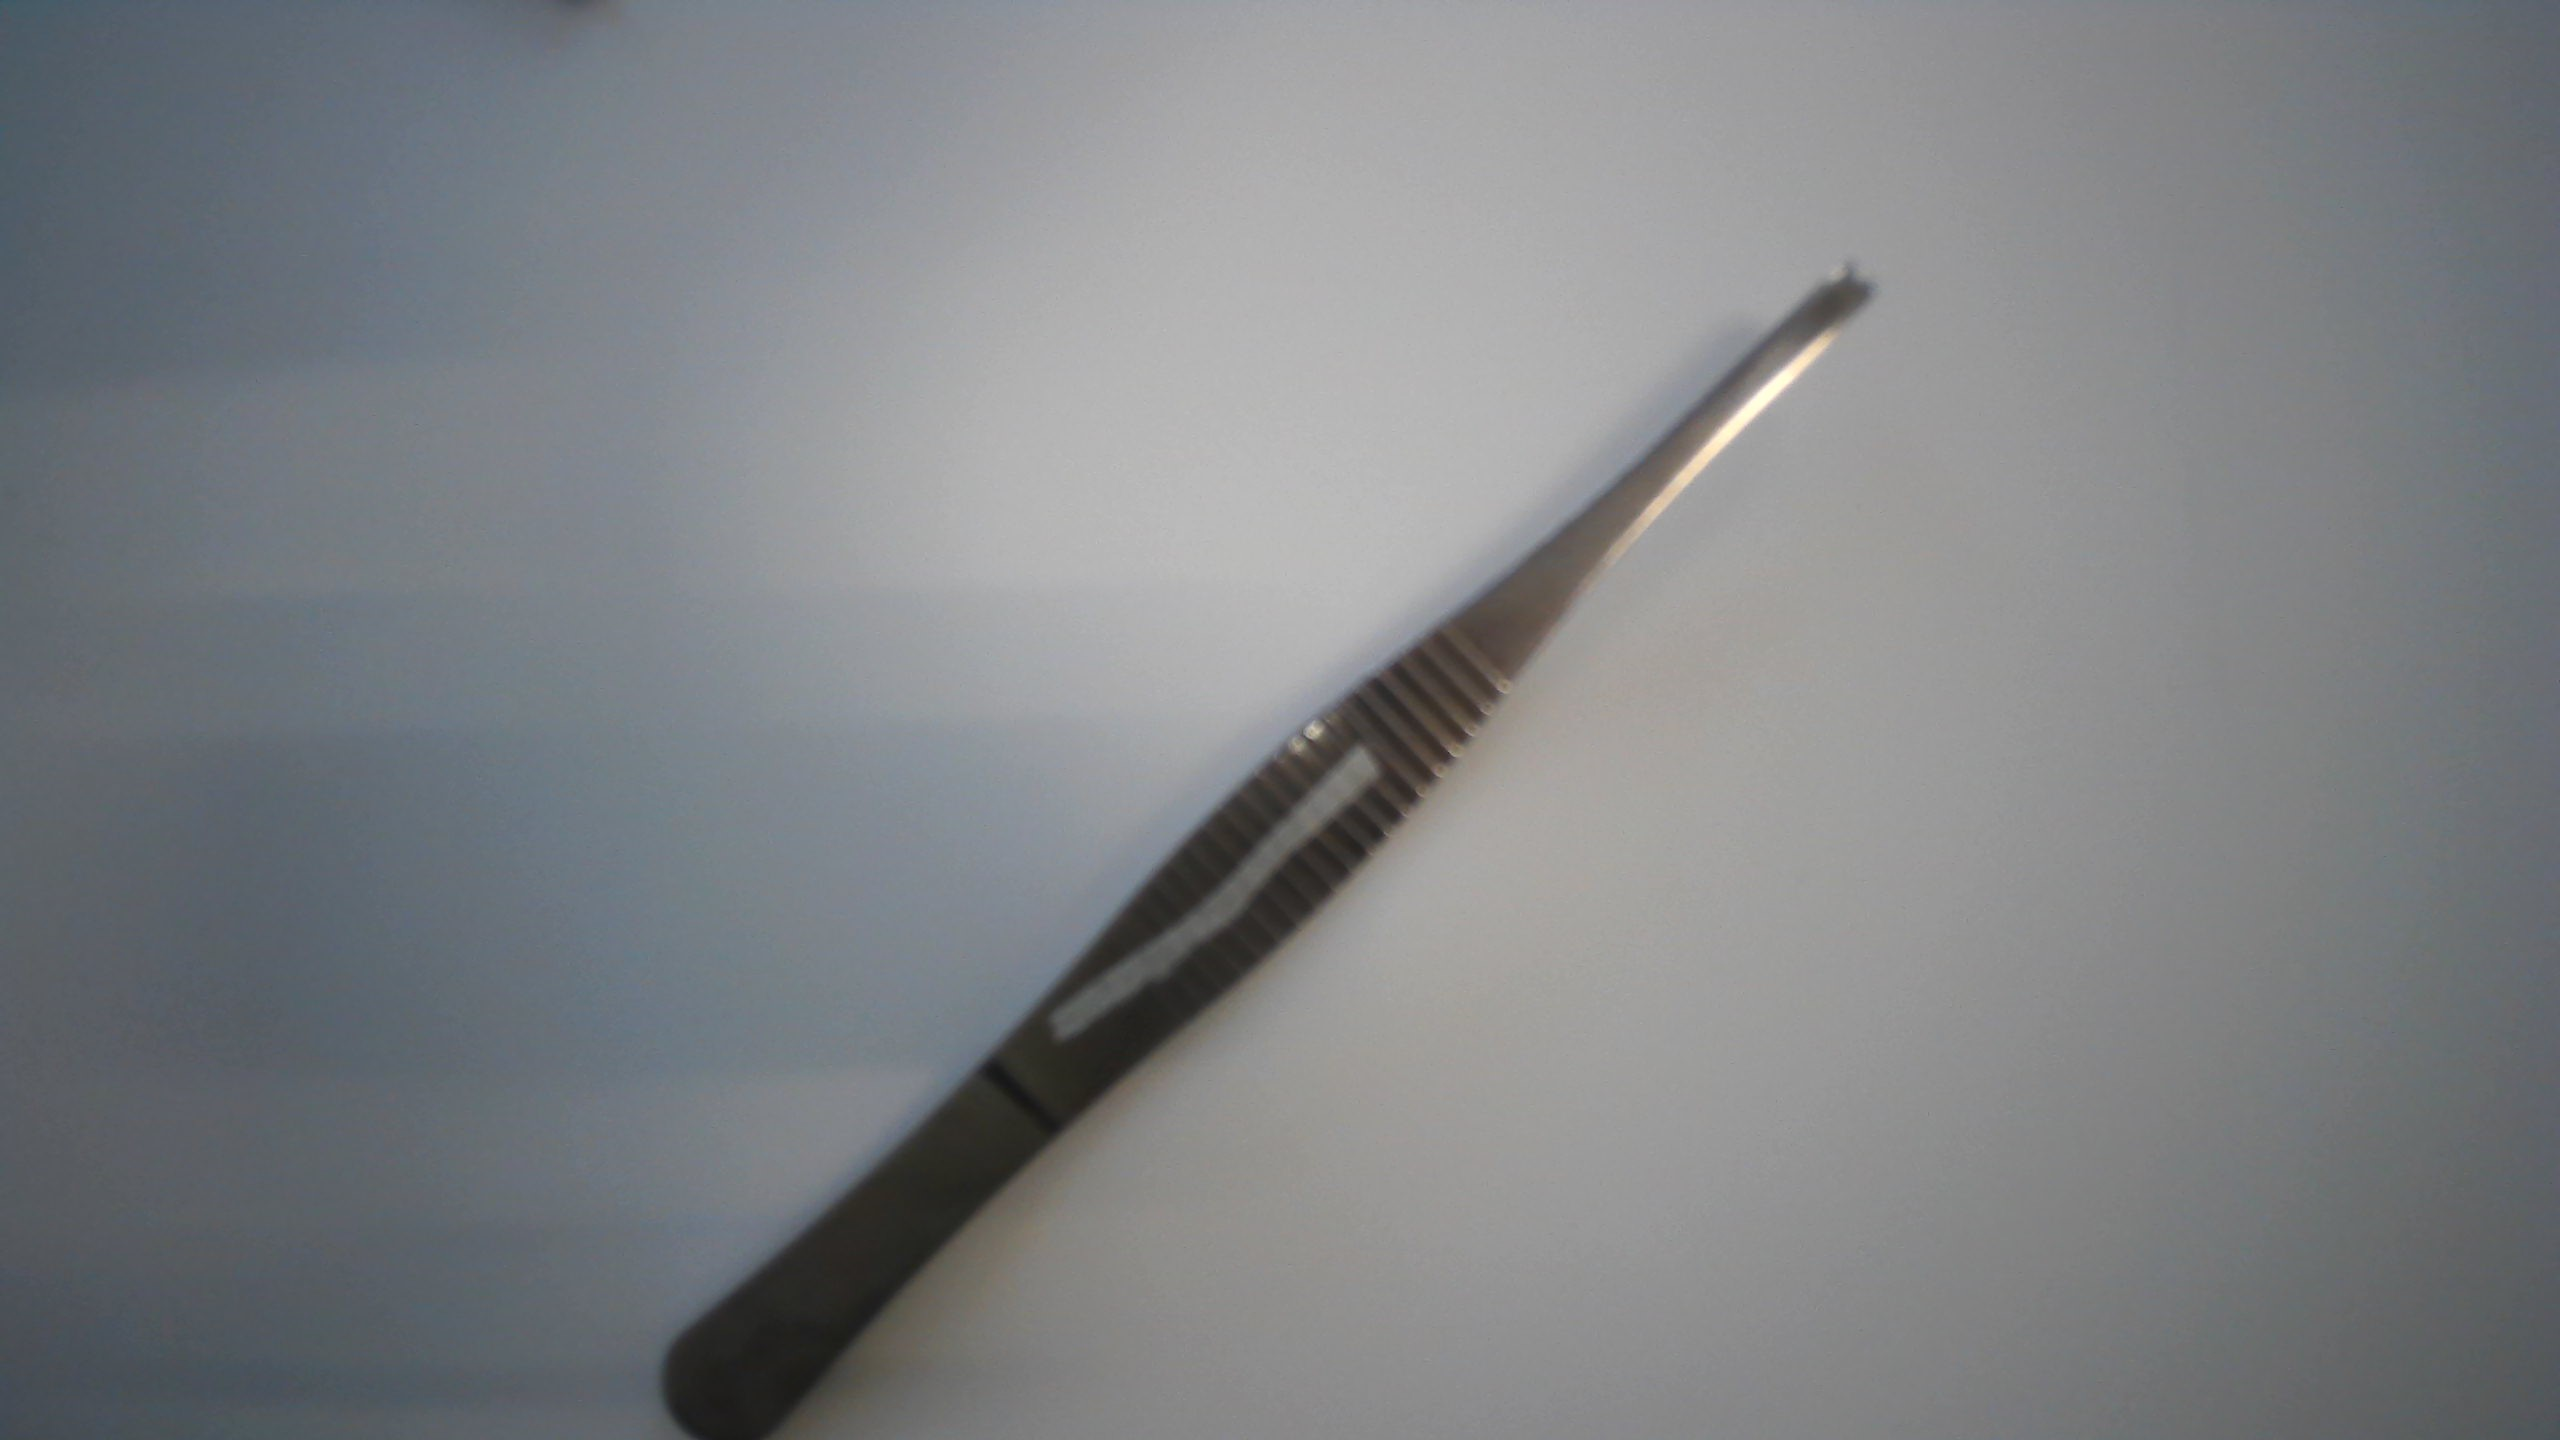Scratches: (1033, 741, 1389, 1049)
